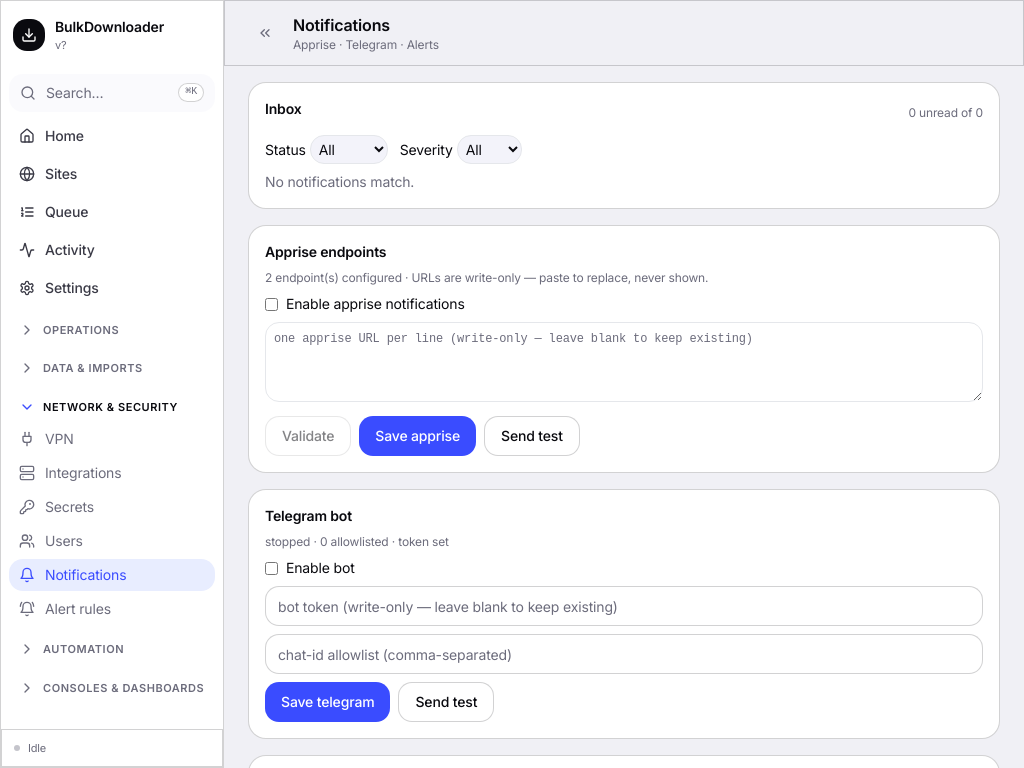
Test: T7 write-only secrets › clears the telegram token only after the save POST carried it
This screenshot has width=1024, height=768.
Type "GET-TG-SECRET-8Q" into the password field named "Telegram bot token" at (624, 606), box [265, 586, 983, 626]
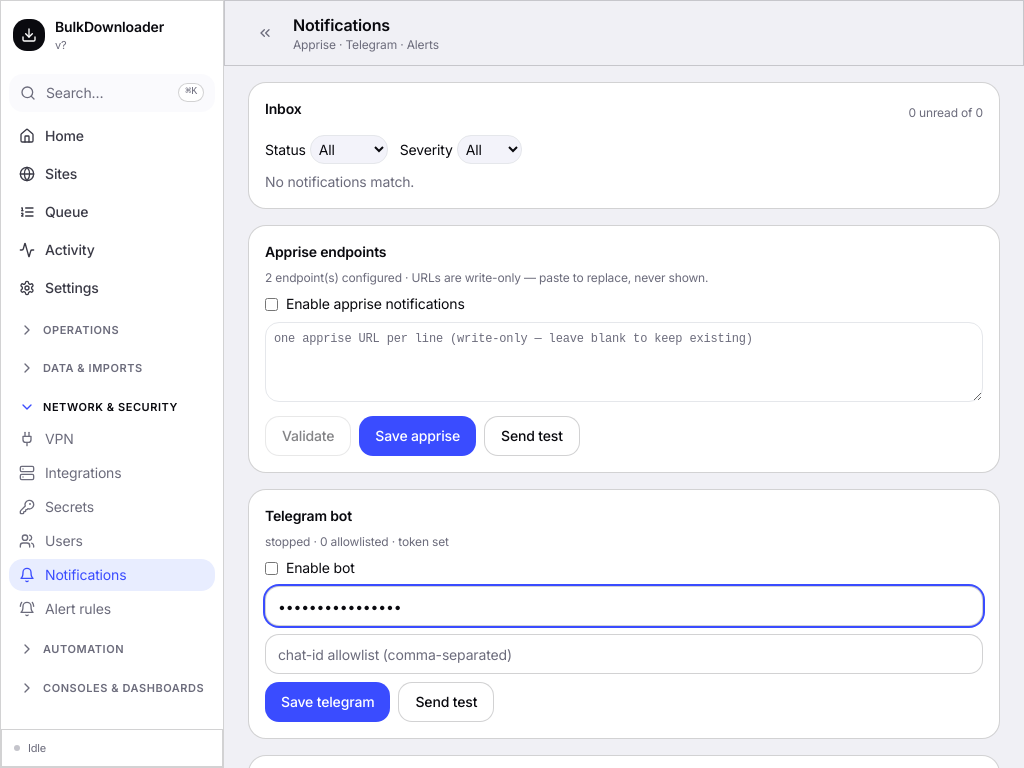
Click the button "Save telegram" at (328, 702), box [265, 682, 390, 722]
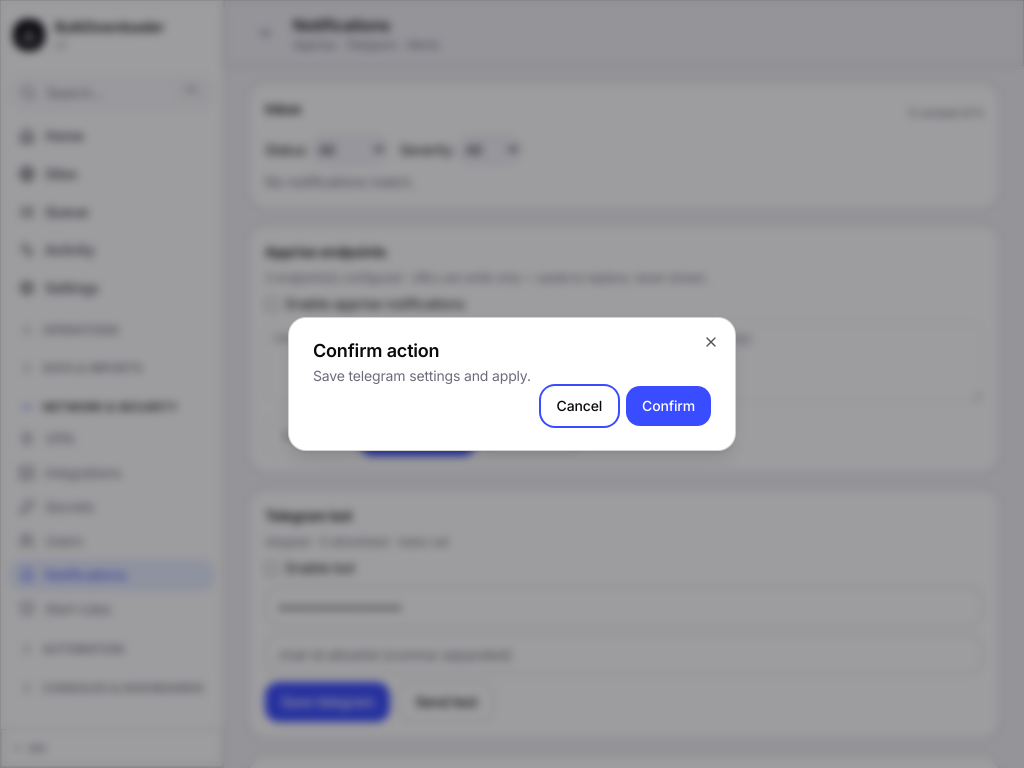
Click the button "Confirm" at (669, 406), box [626, 386, 711, 426]
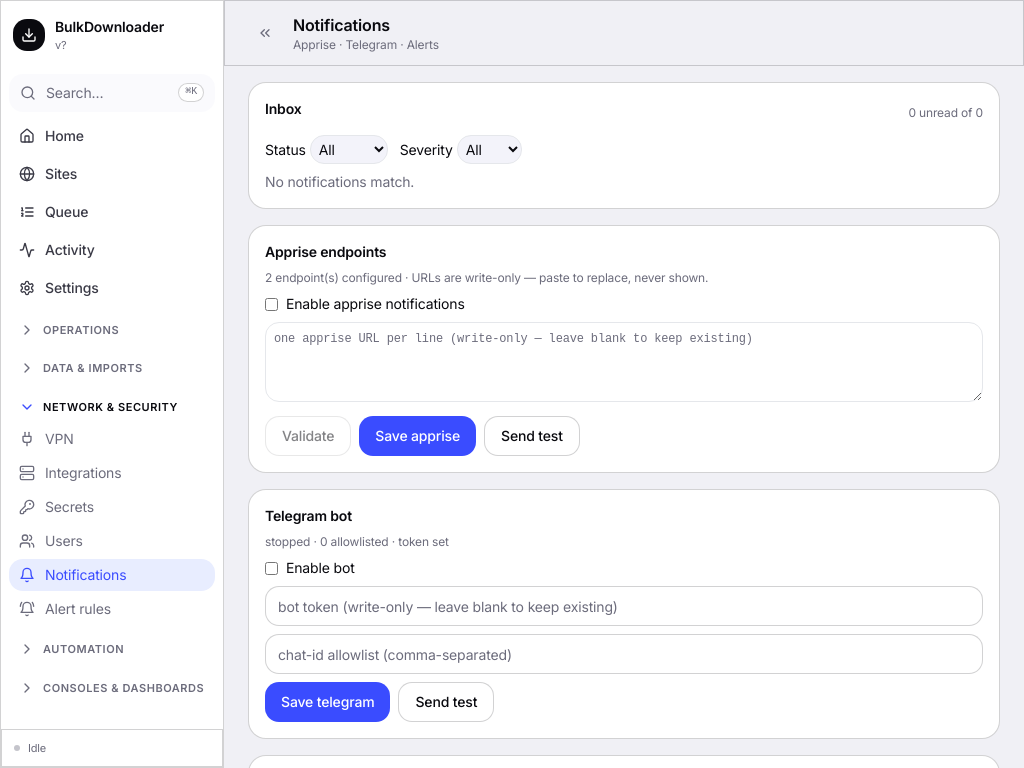
Now the dialog is gone
Now the password field named "Telegram bot token" is empty, box [265, 586, 983, 626]
